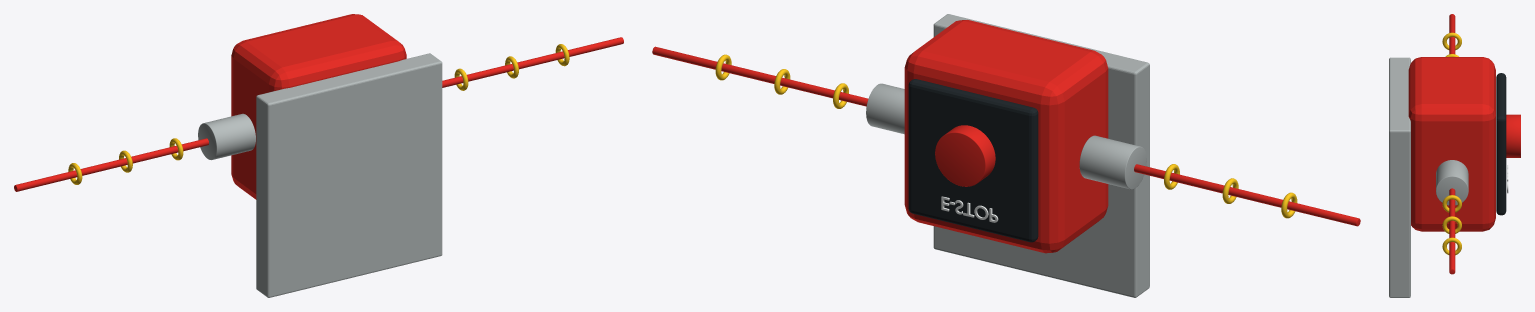
Rendered from rope_pull_estop_station.glb.
The picture shows the model from 3 angles, left to right: view 1: azimuth 30°, elevation 25°; view 2: azimuth 150°, elevation 25°; view 3: azimuth 270°, elevation 25°; orthographic projection. The views are drawn at different scales.
Parts seen in each view (by area): view 1: MOUNT_bracket, ROPE_SWITCH_body, ROPE_eye_-0.42, PULL_rope_-0.42, PULL_rope_0.42; view 2: ROPE_SWITCH_body, ROPE_SWITCH_face, MOUNT_bracket, RESET_mushroom, ROPE_eye_-0.42, PULL_rope_-0.42, PULL_rope_0.42, ROPE_eye_0.42, ESTOP_label; view 3: ROPE_SWITCH_body, MOUNT_bracket, ROPE_SWITCH_face, ROPE_eye_0.42, RESET_mushroom, PULL_rope_0.42, PULL_rope_-0.42, ROPE_marker_0.42_3, ROPE_marker_0.42_1, ROPE_marker_-0.42_3, ROPE_marker_0.42_2.
Boxes of the visible parts, x1,y1,x2,y2 form: MOUNT_bracket: (256,53,442,297); ROPE_SWITCH_body: (231,14,406,199); ROPE_eye_-0.42: (198,113,255,160); PULL_rope_-0.42: (14,138,208,191); PULL_rope_0.42: (442,37,623,87); ROPE_SWITCH_body: (904,20,1108,253); ROPE_SWITCH_face: (908,79,1038,242); MOUNT_bracket: (933,14,1149,297); RESET_mushroom: (935,125,995,186); ROPE_eye_-0.42: (1079,135,1146,189); PULL_rope_-0.42: (1134,164,1360,226); PULL_rope_0.42: (652,46,868,106); ROPE_eye_0.42: (866,83,904,134); ESTOP_label: (941,196,998,222); ROPE_SWITCH_body: (1408,57,1495,231); MOUNT_bracket: (1389,57,1410,297); ROPE_SWITCH_face: (1496,73,1506,215); ROPE_eye_0.42: (1436,160,1468,205); RESET_mushroom: (1506,114,1520,157); PULL_rope_0.42: (1449,188,1455,274); PULL_rope_-0.42: (1449,14,1455,54); ROPE_marker_0.42_3: (1442,237,1461,255); ROPE_marker_0.42_1: (1442,195,1461,212); ROPE_marker_-0.42_3: (1442,32,1461,50); ROPE_marker_0.42_2: (1442,216,1461,233).
Bounding box in the file's own units: 2.77 × 0.915 × 0.605.
